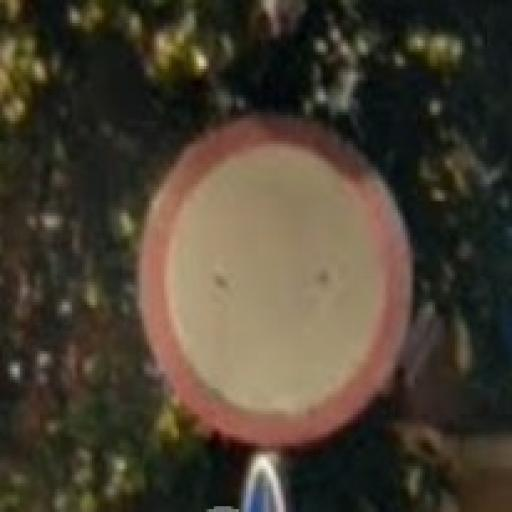traffic_sign: (140, 113, 414, 447)
